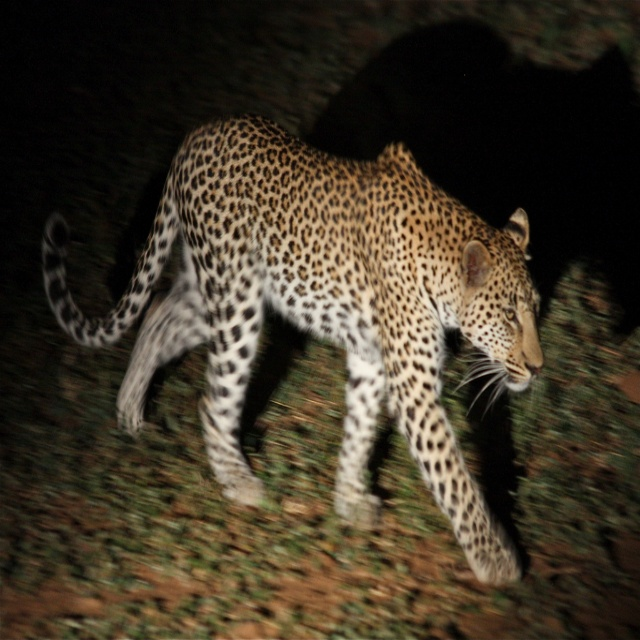Leopard: (41, 113, 547, 585)
